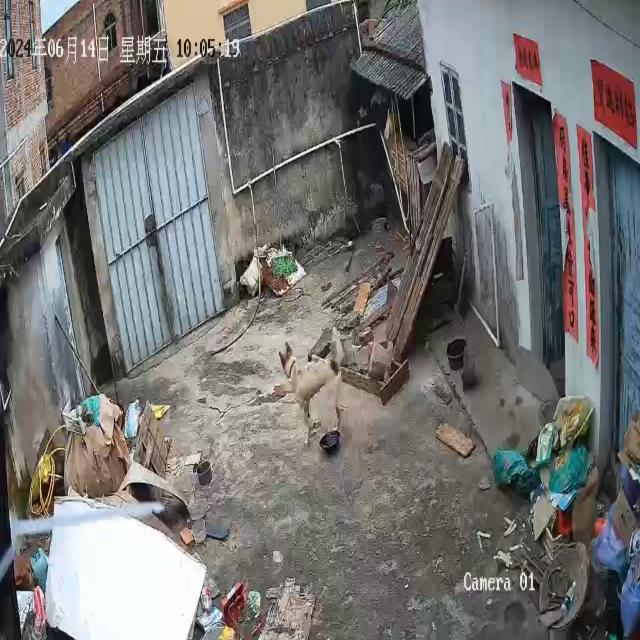dog: (278, 333, 349, 451)
